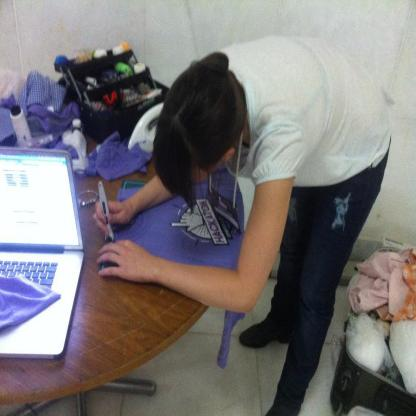board: (0, 144, 85, 360)
